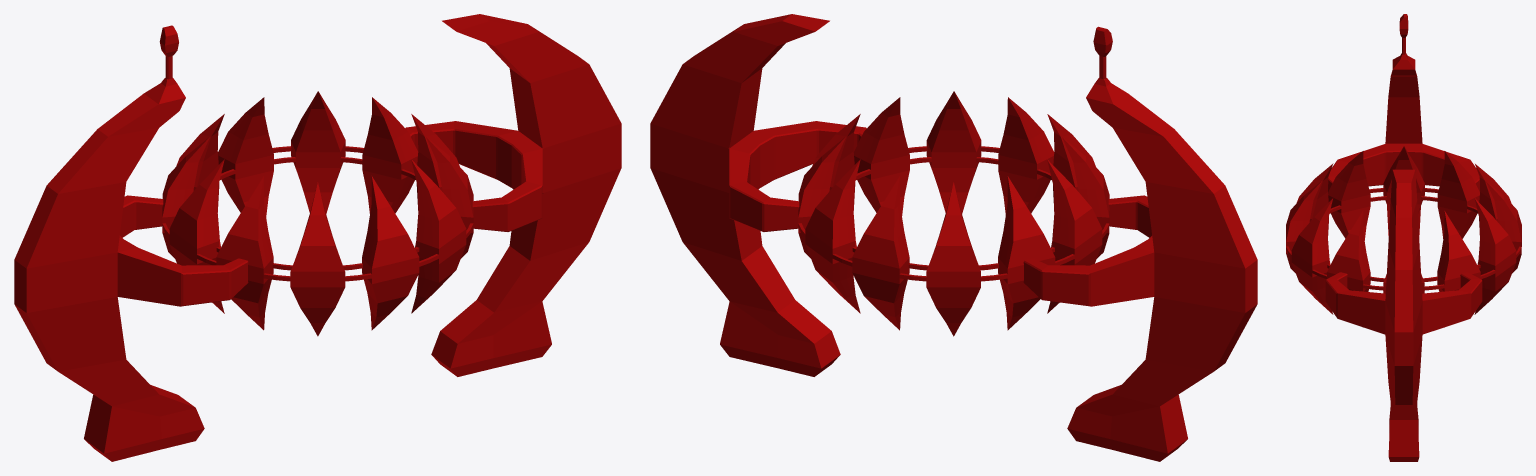
File: Capital_Seperated.fbx
3 renders of one model, left to right at view 1: azimuth 30°, elevation 25°; view 2: azimuth 150°, elevation 25°; view 3: azimuth 270°, elevation 25°, orthographic. The views are drawn at different scales.
Parts seen in each view (by area): view 1: Body, Weapon Ring; view 2: Body, Weapon Ring; view 3: Body, Weapon Ring.
Boxes of the visible parts, bbox=[...] form: Body: bbox=[14, 14, 621, 461]; Weapon Ring: bbox=[162, 91, 473, 336]; Body: bbox=[650, 14, 1257, 461]; Weapon Ring: bbox=[798, 91, 1109, 336]; Body: bbox=[1325, 14, 1482, 461]; Weapon Ring: bbox=[1286, 146, 1521, 314].
Bounding box in the file's own units: 280162 × 185000 × 126864.
